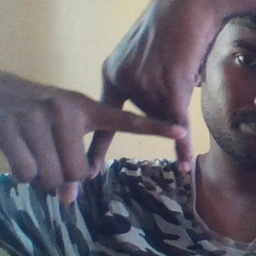H: (69, 68, 208, 190)
